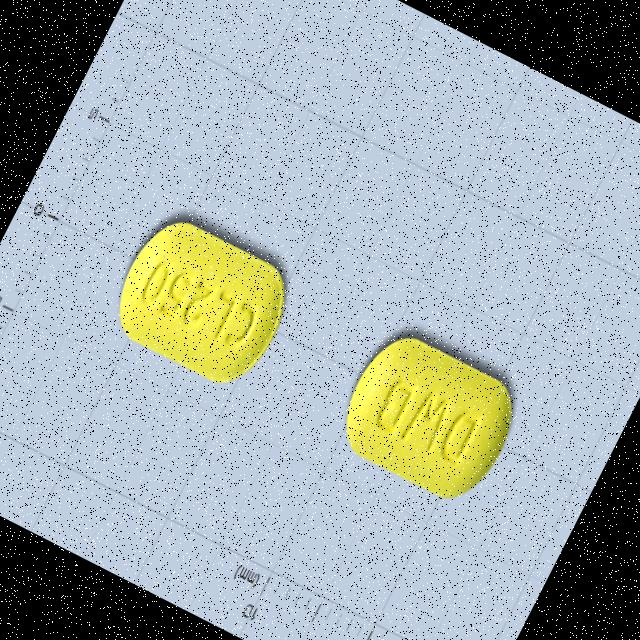Daewoong Clarithromycin: (326, 323, 529, 513), (100, 208, 301, 398)
